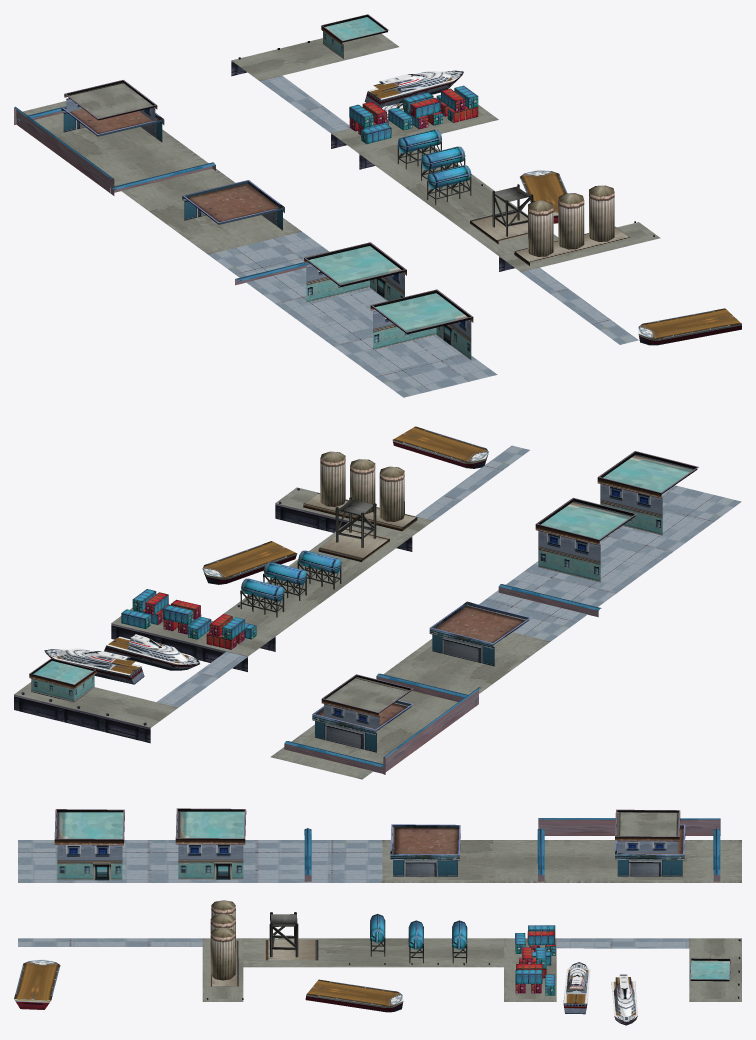
Rendered from ny_port1.fbx.
3 renders of one model, top to bottom at view 1: azimuth 30°, elevation 25°; view 2: azimuth 150°, elevation 25°; view 3: azimuth 270°, elevation 25°, orthographic. The views are drawn at different scales.
Parts seen in each view (by area): view 1: port1, port_props1; view 2: port1, port_props1; view 3: port1, port_props1.
Boxes of the visible parts, x1=… form: port1: x1=14, y1=14, x2=741, y2=397; port_props1: x1=349, y1=85, x2=614, y2=256; port1: x1=14, y1=426, x2=741, y2=779; port_props1: x1=121, y1=451, x2=404, y2=649; port1: x1=14, y1=808, x2=741, y2=1025; port_props1: x1=210, y1=900, x2=555, y2=995.
Bounding box in the file's own units: 5942 × 1039 × 10054.
